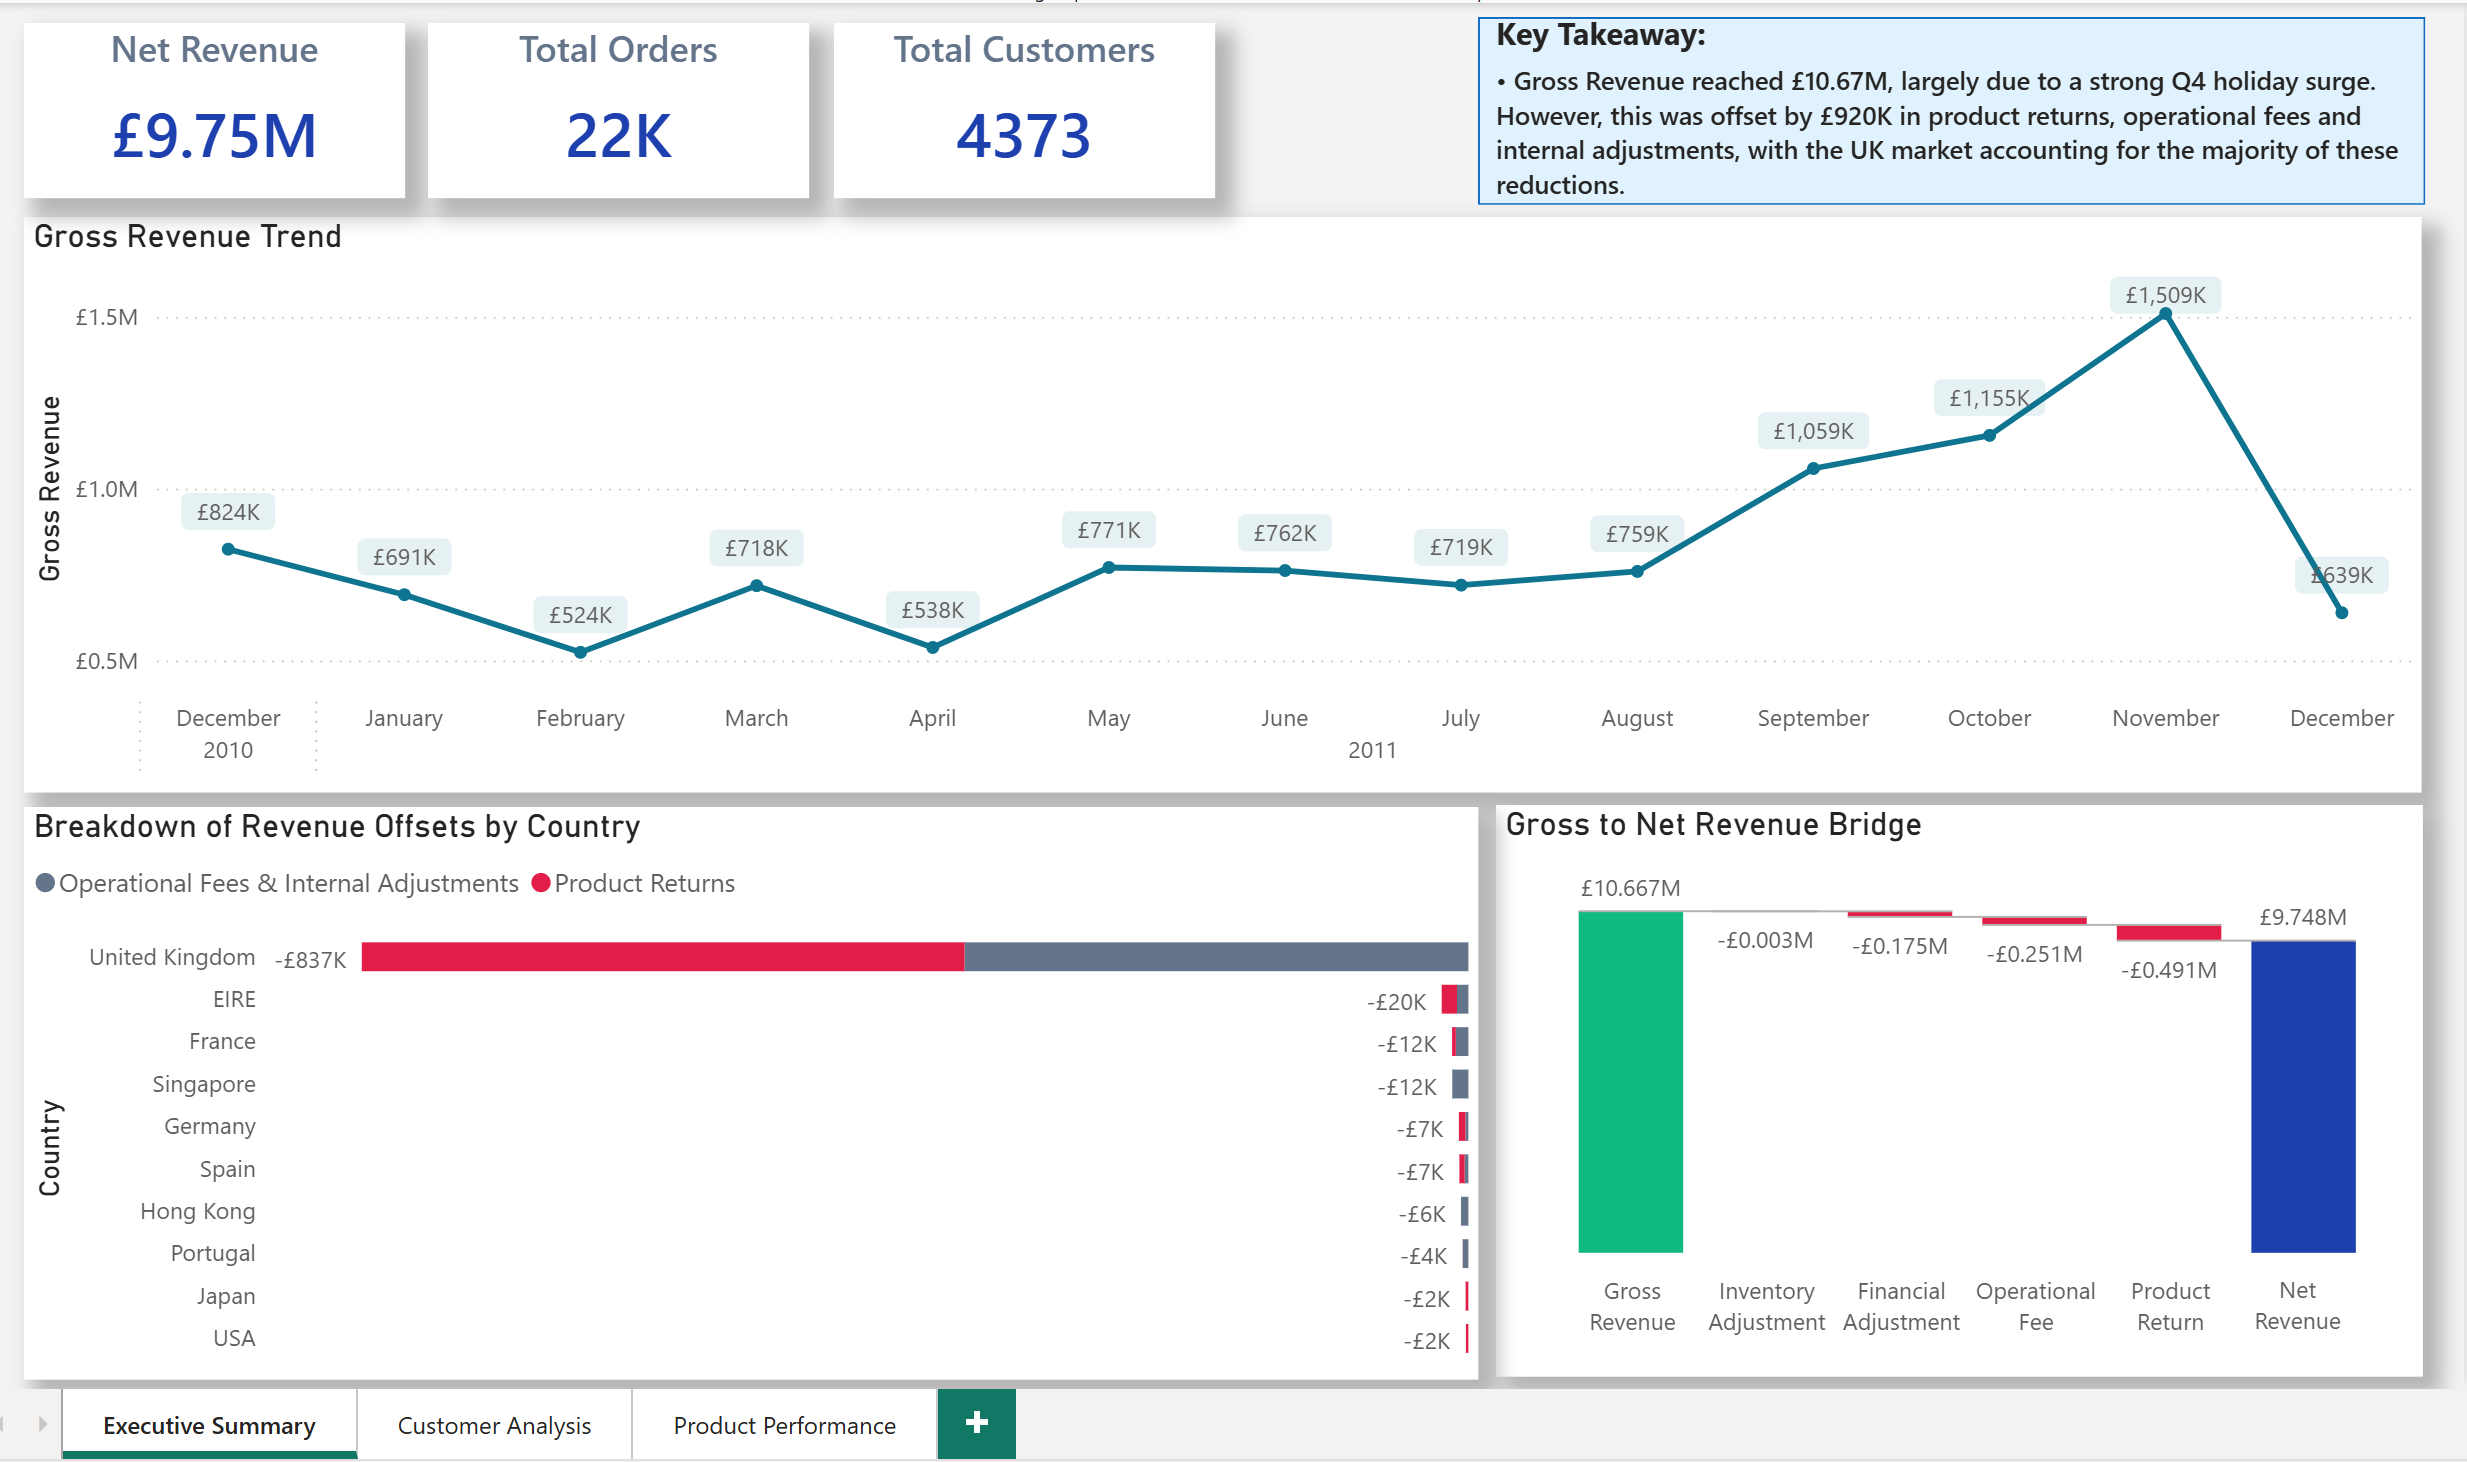

This screenshot's page, from the dashboard's own definition file:
{"tool":"powerbi","page":{"name":"Executive Summary","canvas":[1280,720],"ordinal":0},"visuals":[{"type":"lineChart","title":"Gross Revenue Trend","fields":{"Category":["Dim_Date.A Date Heirarchy.Year","Dim_Date.A Date Heirarchy.Month Name","Dim_Date.A Date Heirarchy.Date"],"Y":["#Measures.Gross Revenue"]},"box":[12.5,111.2,1245.7,299.2],"z":0},{"type":"waterfallChart","title":"Gross to Net Revenue Bridge","fields":{"Category":["data.Transaction Category Detailed"],"Y":["#Measures.Waterfall Value"]},"box":[777.3,416.9,481.3,297.1],"z":1000},{"type":"barChart","title":"Breakdown of Revenue Offsets by Country","fields":{"Category":["data.Country"],"Series":["data.Transaction Type"],"Y":["#Measures.Total Offsets"]},"box":[12.5,417.1,755.3,297.7],"z":2000},{"type":"actionButton","box":[1156.7,652.8,74.5,46.5],"z":3000},{"type":"shape","box":[768,7,492.2,97.7],"z":4000},{"type":"card","title":"Net Revenue","fields":{"Values":["#Measures.The Net Revenue"]},"box":[12.1,9.9,197.8,91.2],"z":5000},{"type":"card","title":"Total Orders","fields":{"Values":["#Measures.Total Orders"]},"box":[222,9.9,197.8,91.2],"z":6000},{"type":"card","title":"Total Customers","fields":{"Values":["#Measures.Total Customers"]},"box":[433,9.9,197.8,91.2],"z":7000},{"type":"shape","title":"Key Takeaway:","box":[777.3,4.7,499.2,103.6],"z":8000}]}

Visuals, with their boxes on the page's 1280x720 design canvas (x1, y1, x2, y2). These are canvas units, not pixel positions in the 2467x1462 screenshot, which may show the page scaled, cropped or inside an application window:
"Gross Revenue Trend" lineChart: select_region(12, 111, 1258, 410)
"Gross to Net Revenue Bridge" waterfallChart: select_region(777, 417, 1259, 714)
"Breakdown of Revenue Offsets by Country" barChart: select_region(12, 417, 768, 715)
actionButton: select_region(1157, 653, 1231, 699)
shape: select_region(768, 7, 1260, 105)
"Net Revenue" card: select_region(12, 10, 210, 101)
"Total Orders" card: select_region(222, 10, 420, 101)
"Total Customers" card: select_region(433, 10, 631, 101)
"Key Takeaway:" shape: select_region(777, 5, 1276, 108)
